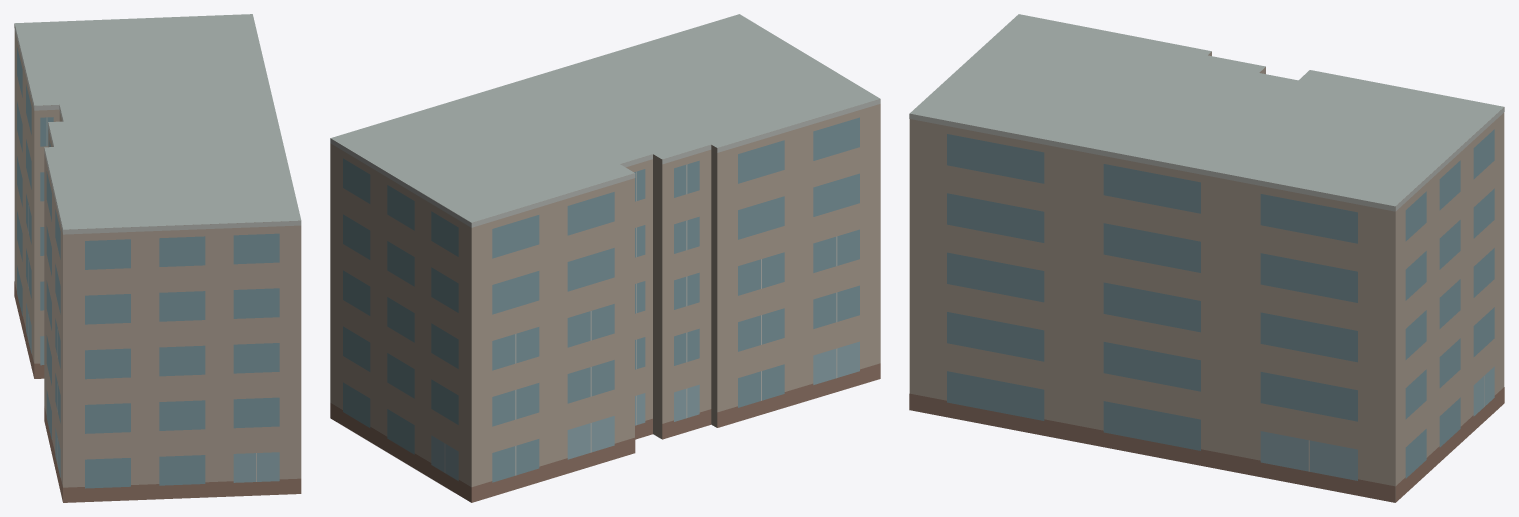
Rendered from survey-upis-32524563.glb.
3 renders of one model, left to right at view 1: azimuth 30°, elevation 25°; view 2: azimuth 150°, elevation 25°; view 3: azimuth 270°, elevation 25°, orthographic. The views are drawn at different scales.
Visible parts, largest first — view 1: survey-upis-32524563.tmp; view 2: survey-upis-32524563.tmp; view 3: survey-upis-32524563.tmp.
Part boxes in pixels (box(x1,y1,x2,y2)): survey-upis-32524563.tmp: box(14, 14, 301, 502); survey-upis-32524563.tmp: box(330, 14, 880, 502); survey-upis-32524563.tmp: box(909, 14, 1504, 502).
Size of the model in its own units: 19.07 by 13.7 by 24.92.
